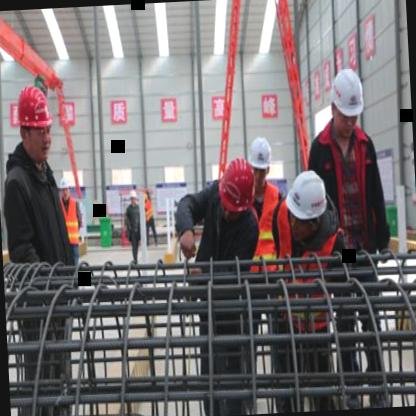helmet: (9, 78, 56, 164), (283, 166, 331, 234), (326, 64, 368, 136), (219, 155, 253, 217), (246, 132, 275, 184), (58, 170, 70, 198), (126, 182, 138, 206)
